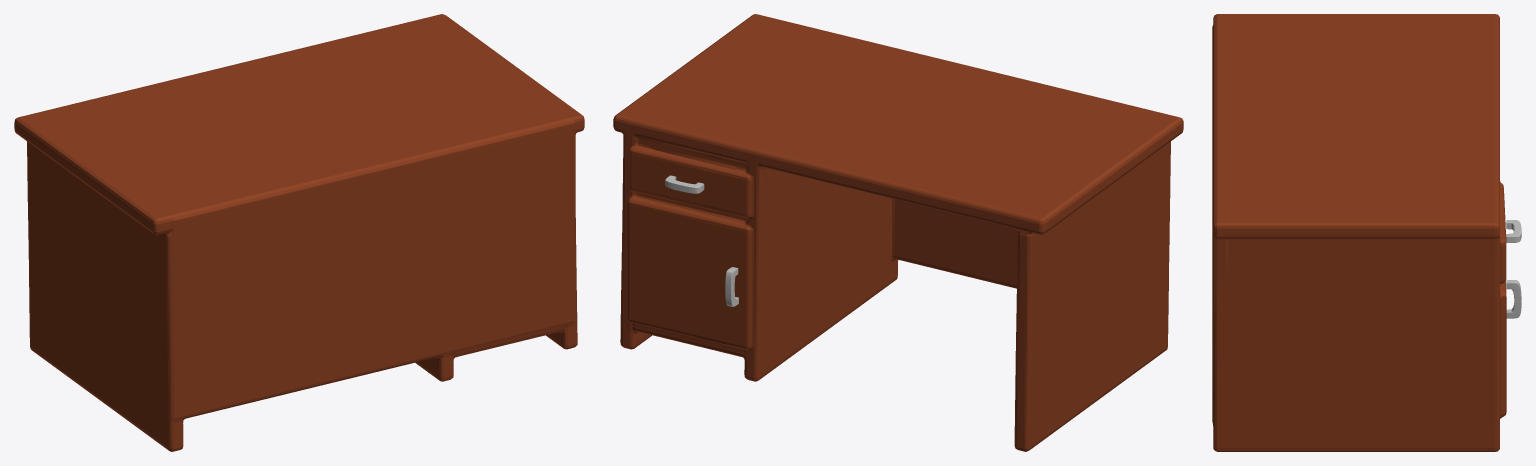
The model's file is schreibtisch_3.glb.
3 renders of one model, left to right at view 1: azimuth 30°, elevation 25°; view 2: azimuth 150°, elevation 25°; view 3: azimuth 270°, elevation 25°, orthographic.
Visible parts, largest first — view 1: 282367_23_05_24_18_12_22_3; view 2: 282367_23_05_24_18_12_22_3; view 3: 282367_23_05_24_18_12_22_3, 282367_23_05_24_18_12_22_2, 282367_23_05_24_18_12_22_1.
Boxes of the visible parts, left/top/right/bottom form: 282367_23_05_24_18_12_22_3: left=14, top=14, right=584, bottom=451; 282367_23_05_24_18_12_22_3: left=613, top=14, right=1183, bottom=451; 282367_23_05_24_18_12_22_3: left=1212, top=14, right=1506, bottom=451; 282367_23_05_24_18_12_22_2: left=1506, top=280, right=1521, bottom=318; 282367_23_05_24_18_12_22_1: left=1506, top=220, right=1521, bottom=242.
Bounding box in the file's own units: 8.55 × 4.49 × 5.26.
Materials: 3 (3 with a texture image).
